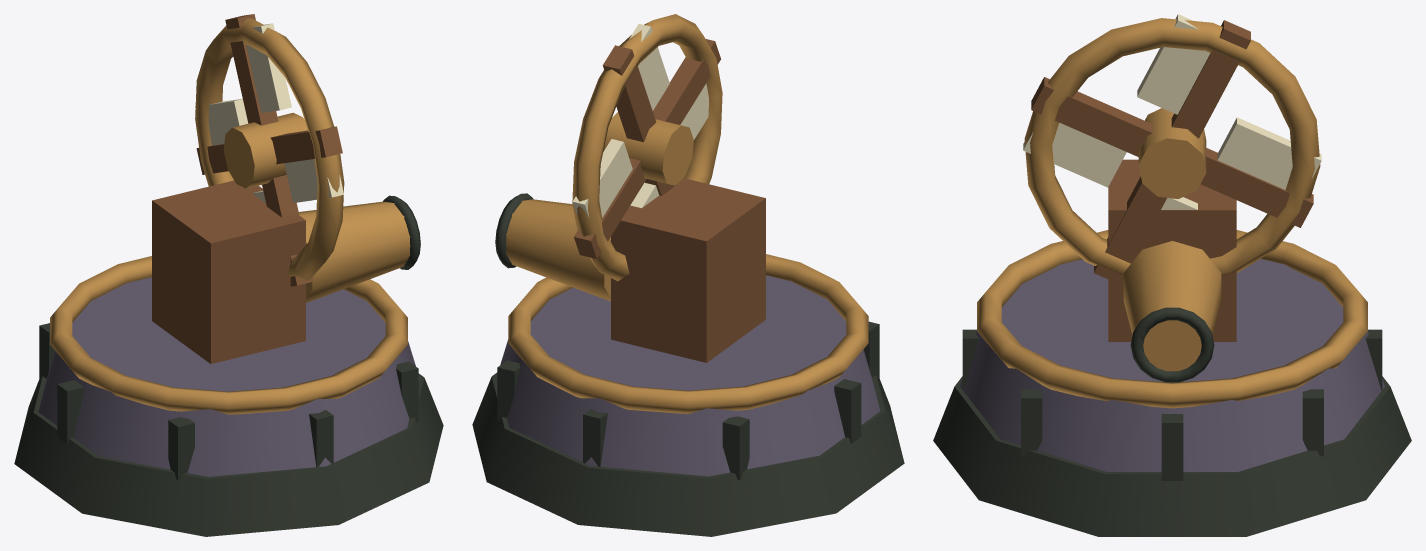
File: tower_wind_windGuide.glb
3 renders of one model, left to right at view 1: azimuth 30°, elevation 25°; view 2: azimuth 150°, elevation 25°; view 3: azimuth 270°, elevation 25°, orthographic. The views are drawn at different scales.
Visible parts, largest first — view 1: stone_1, foot_0, mill_11, rim_2, guide_ring_12, air_nozzle_22, hub_13, sail_17, spar_18, spar_16, mortar_6, sail_19 (+8 smaller); view 2: stone_1, foot_0, mill_11, rim_2, guide_ring_12, air_nozzle_22, hub_13, spar_16, spar_18, spar_14, sail_15, mortar_8 (+7 smaller); view 3: stone_1, foot_0, guide_ring_12, rim_2, air_nozzle_22, mill_11, hub_13, spar_18, sail_15, sail_17, spar_16, spar_14 (+8 smaller).
Boxes of the visible parts, x1,y1,x2,y2 form: stone_1: (38,277,419,476); foot_0: (14,373,443,536); mill_11: (152,180,305,363); rim_2: (50,256,407,414); guide_ring_12: (195,18,344,280); air_nozzle_22: (298,201,410,302); hub_13: (223,112,307,188); sail_17: (246,23,291,112); spar_18: (270,126,342,164); spar_16: (225,14,278,125); mortar_6: (168,417,194,480); sail_19: (284,159,343,202); stone_1: (496,275,880,476); foot_0: (472,372,904,536); mill_11: (611,178,765,362); rim_2: (508,254,868,413); guide_ring_12: (572,14,722,281); air_nozzle_22: (506,199,610,301); hub_13: (603,112,693,185); spar_16: (602,45,656,142); spar_18: (653,39,720,124); spar_14: (574,158,646,258); sail_15: (572,139,632,218); mortar_8: (722,416,749,479); stone_1: (960,259,1384,471); foot_0: (933,376,1411,536); guide_ring_12: (1024,18,1320,275); rim_2: (977,230,1367,408); air_nozzle_22: (1123,241,1221,371); mill_11: (1108,159,1236,341); hub_13: (1138,108,1206,199); spar_18: (1031,77,1152,156); sail_15: (1217,117,1321,189); sail_17: (1137,14,1210,114); spar_16: (1171,20,1250,138); spar_14: (1200,147,1313,227).
Size of the model in its own units: 0.5326 by 0.5745 by 0.56.
